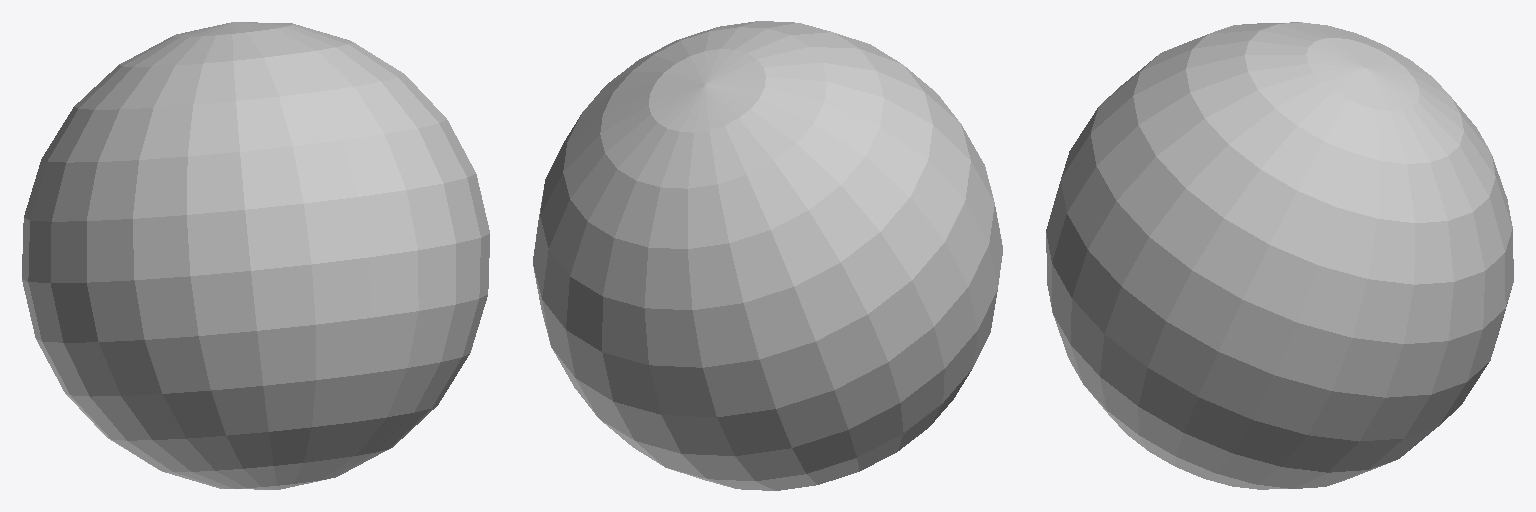
The model's file is studio_light_bulb.obj.
3 renders of one model, left to right at view 1: azimuth 30°, elevation 25°; view 2: azimuth 150°, elevation 25°; view 3: azimuth 270°, elevation 25°, orthographic.
Visible parts, largest first — view 1: Object001; view 2: Object001; view 3: Object001.
Boxes of the visible parts, x1,y1,x2,y2 form: Object001: [22, 22, 489, 489]; Object001: [533, 21, 1002, 490]; Object001: [1046, 22, 1513, 489].
Size of the model in its own units: 20.9 by 20.83 by 20.86.